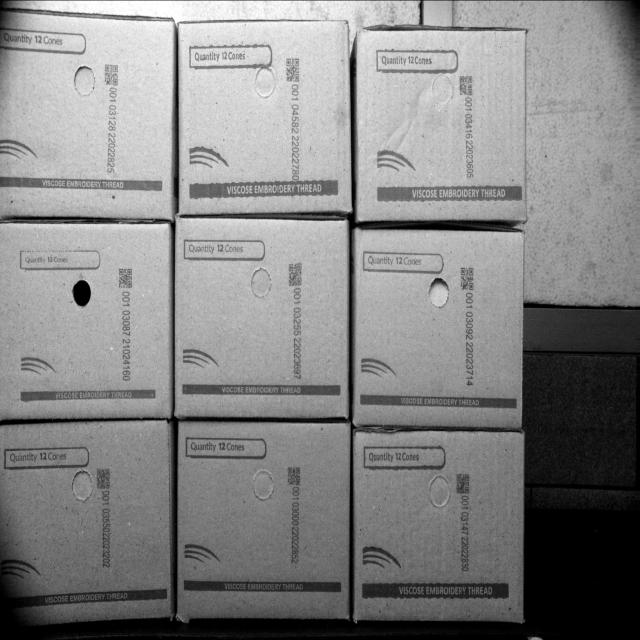cardboxes: (0, 9, 172, 218), (0, 421, 171, 629), (177, 422, 347, 622), (179, 17, 349, 214), (177, 217, 348, 411), (358, 27, 530, 215), (0, 223, 171, 412), (357, 228, 521, 422), (355, 431, 523, 620)
